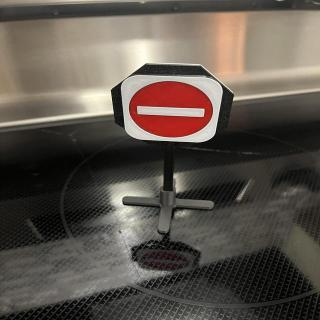sign_noentry: (120, 73, 225, 145)
